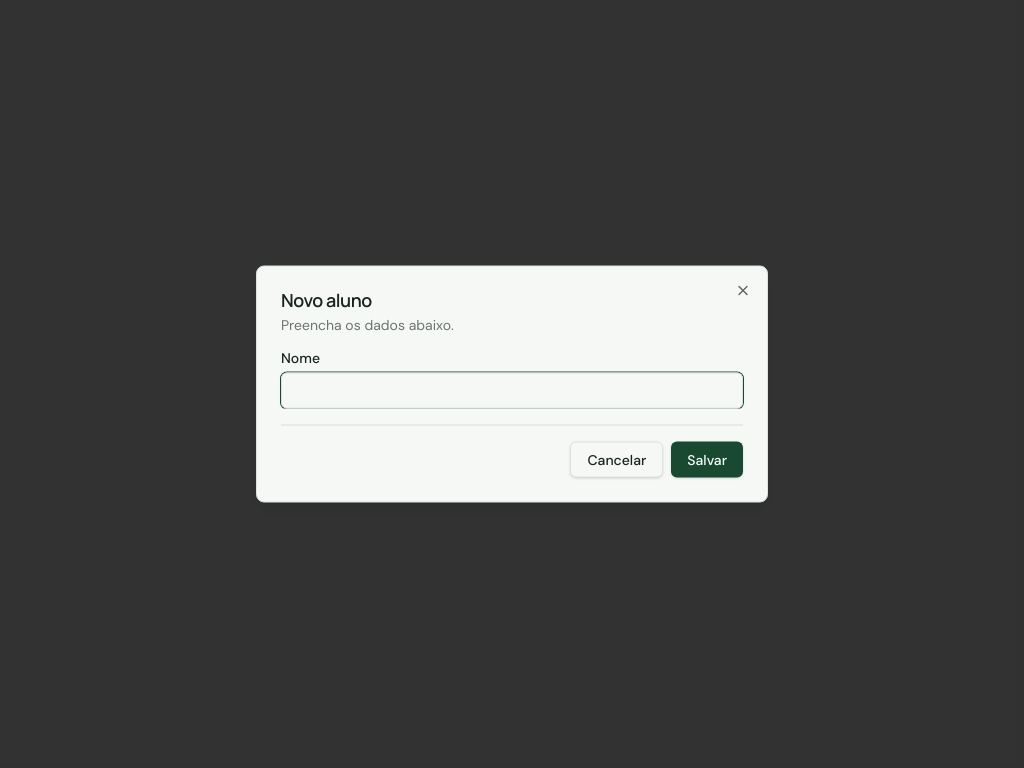
Test: FormDialog › valida com zod e não envia dados inválidos
In the field labelled "Nome": (512, 390) [281,372,743,408], type "ab"
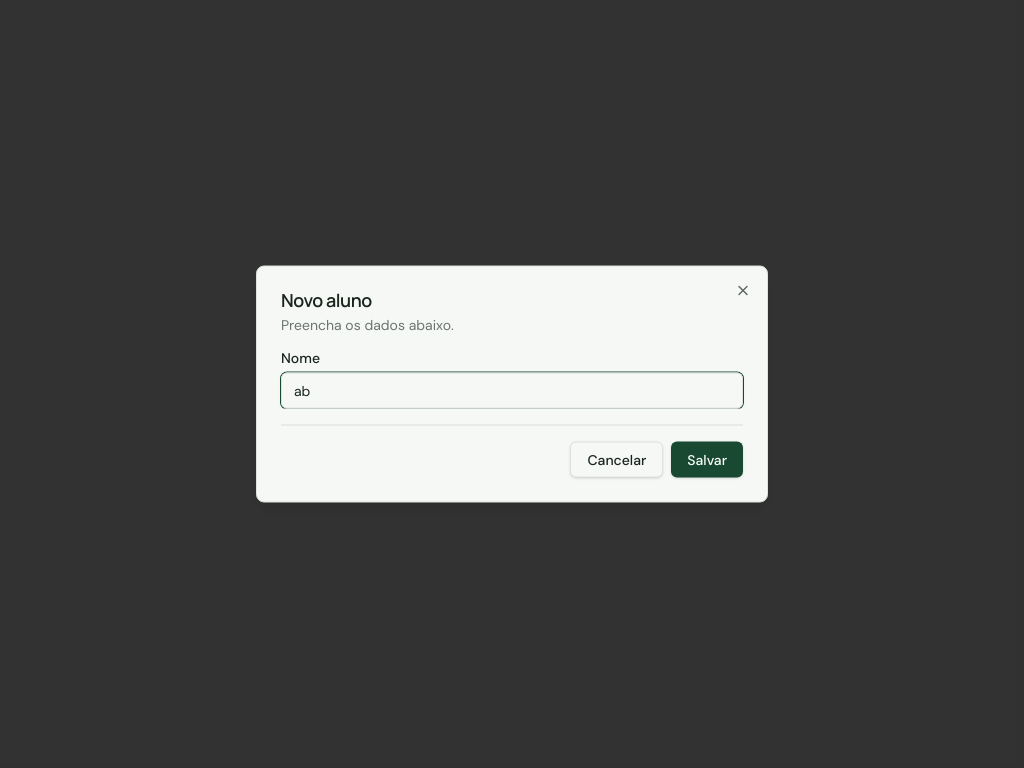
Click the button "Salvar": (707, 460) [671,442,743,478]
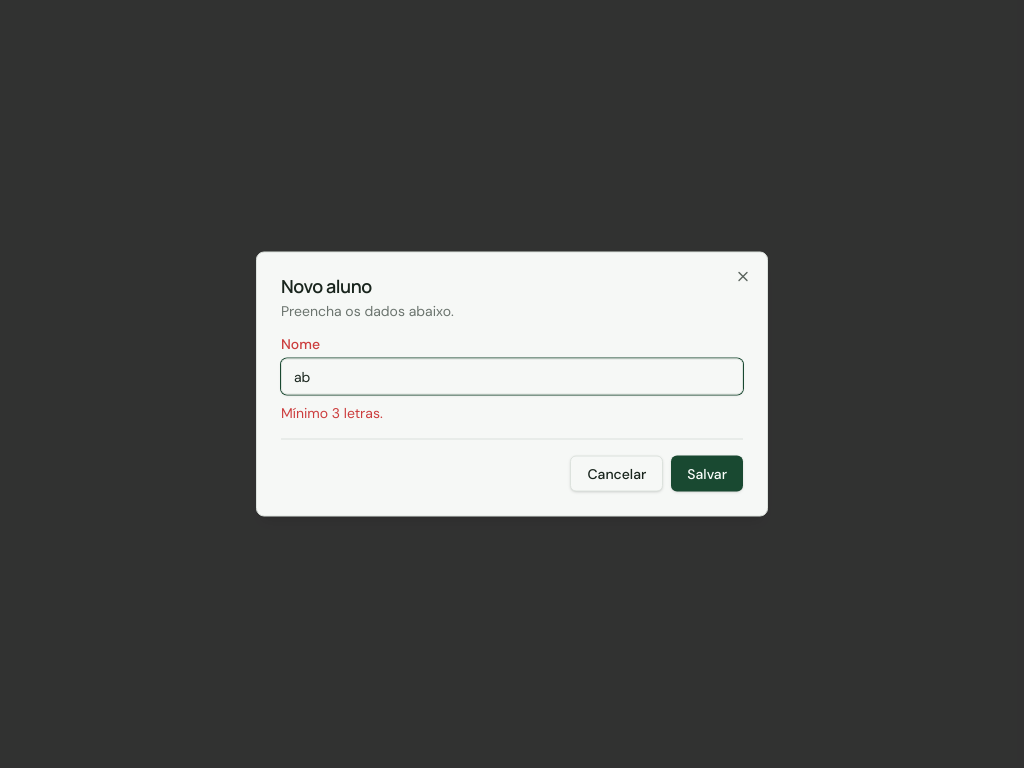
Expected: the text "Mínimo 3 letras." is shown, [281,404,383,422]
